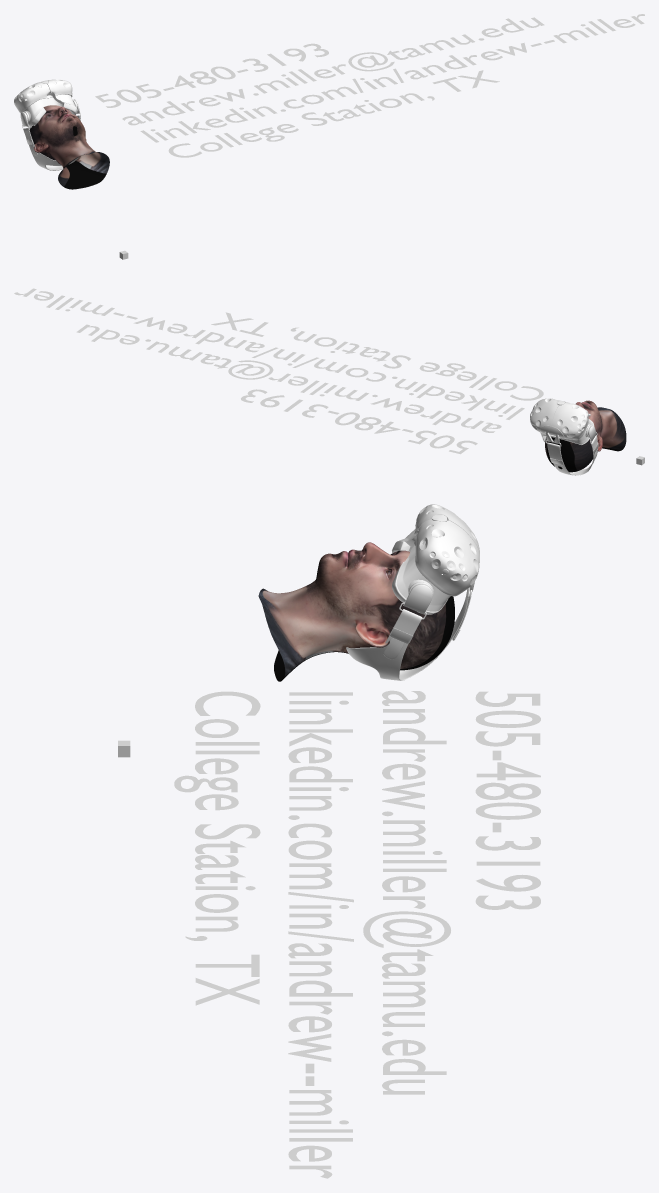
The model's file is asset.glb.
3 views of the same model, one above another, from view 1: azimuth 30°, elevation 25°; view 2: azimuth 150°, elevation 25°; view 3: azimuth 270°, elevation 25° (orthographic). The views are drawn at different scales.
Parts seen in each view (by area): view 1: Text, FaceBuilderHead, Object_3, Object_11; view 2: Text, FaceBuilderHead, Object_3, Object_11; view 3: Text, FaceBuilderHead, Object_3, Object_11.
Boxes of the visible parts, bbox=[...] form: Text: bbox=[95, 14, 644, 157]; FaceBuilderHead: bbox=[29, 105, 109, 189]; Object_3: bbox=[14, 79, 77, 123]; Object_11: bbox=[23, 115, 80, 170]; Text: bbox=[14, 288, 543, 454]; FaceBuilderHead: bbox=[545, 400, 626, 472]; Object_3: bbox=[530, 398, 593, 444]; Object_11: bbox=[540, 432, 597, 475]; Text: bbox=[174, 690, 540, 1178]; FaceBuilderHead: bbox=[258, 542, 454, 681]; Object_3: bbox=[396, 504, 479, 611]; Object_11: bbox=[346, 581, 474, 680].
Size of the model in its own units: 222 by 42.01 by 67.86.
11 materials, 1 textured.
